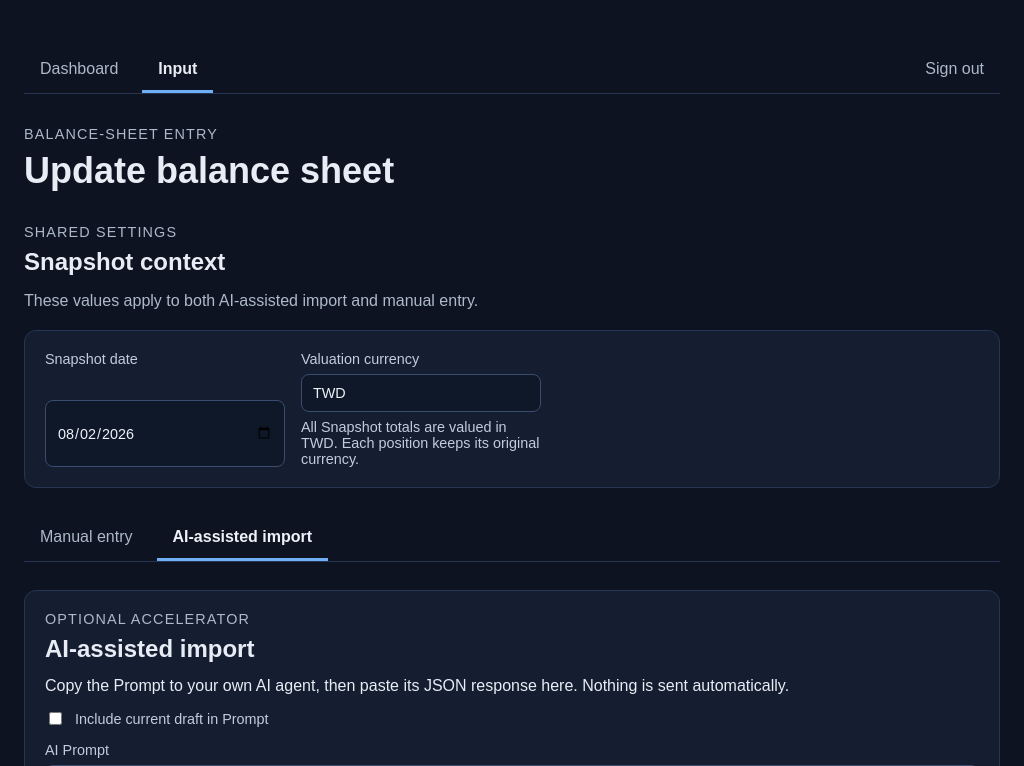
Balance-sheet entry › maps API validation back to the affected field
The image size is (1024, 766).
Click the tab "Manual entry".
click(86, 538)  # box [24, 516, 148, 561]
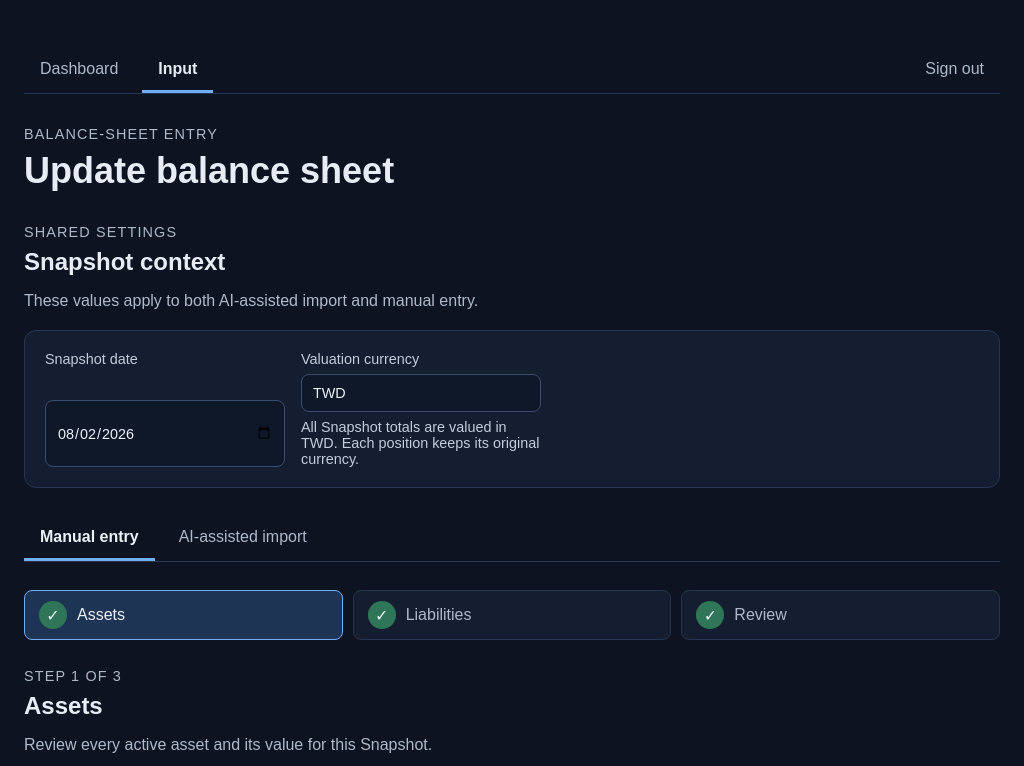
Click the button "✓ Review".
click(761, 614)  # box [681, 590, 1000, 640]
(page scrolled)
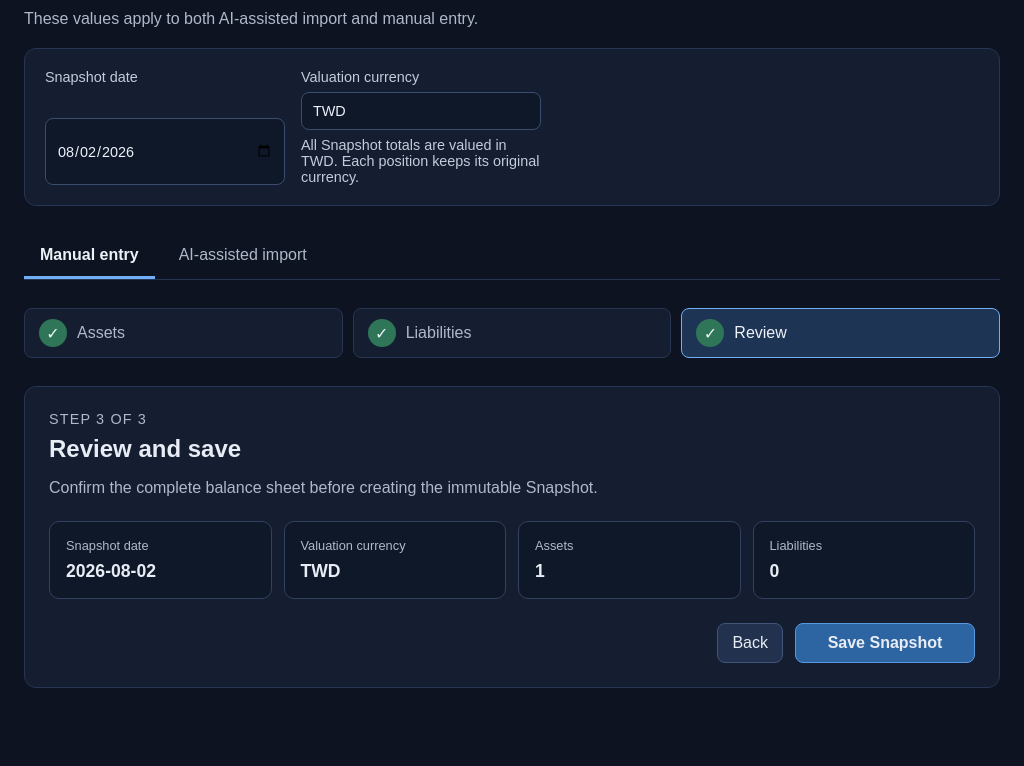
Click the button "Save Snapshot".
click(885, 643)  # box [795, 623, 975, 663]
(page scrolled)
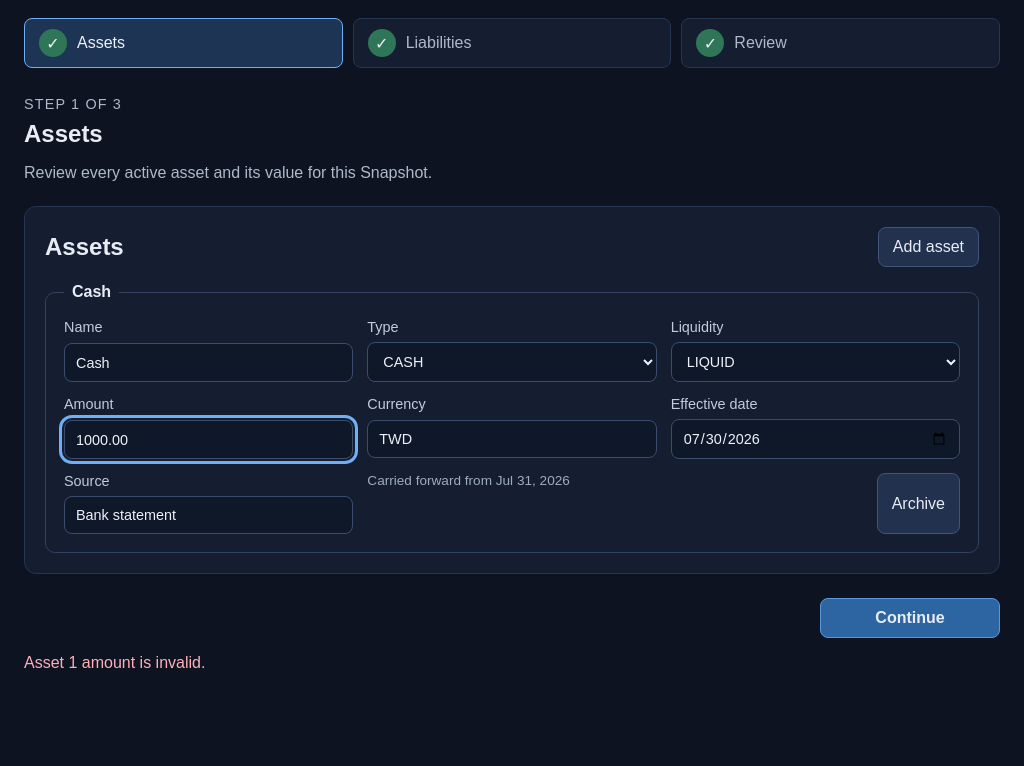
Result: the text "Asset 1 amount is invalid." is shown at [24, 654, 205, 671]
